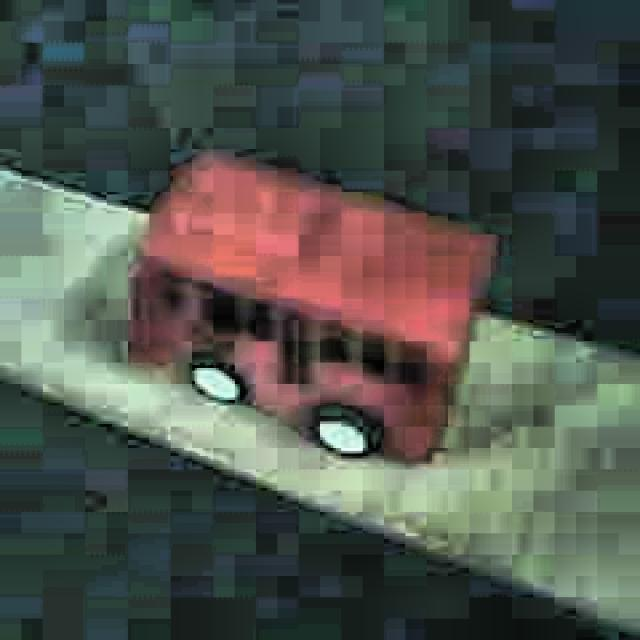bus: (124, 147, 495, 469)
